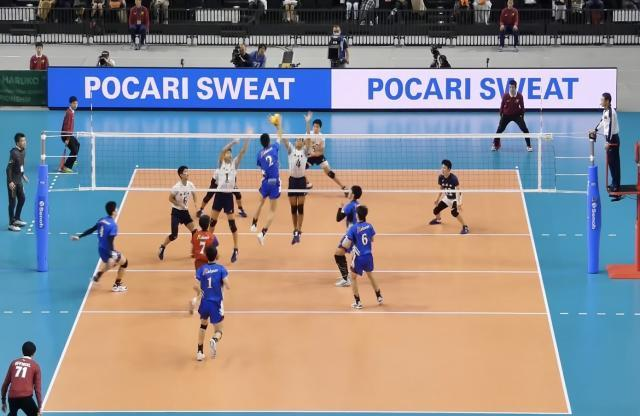spike: (247, 106, 286, 249)
